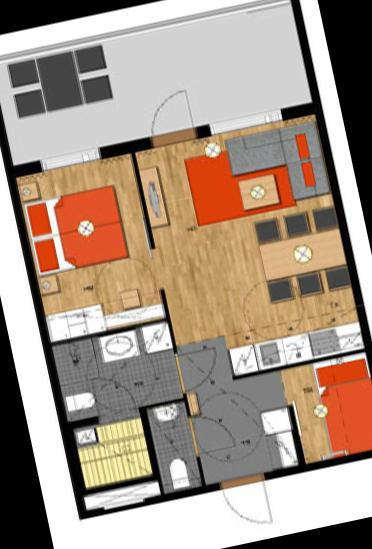door: (137, 83, 202, 152), (219, 467, 276, 529), (86, 366, 142, 428), (169, 340, 227, 396), (184, 404, 240, 460)
window: (202, 102, 288, 140), (33, 140, 106, 176)
